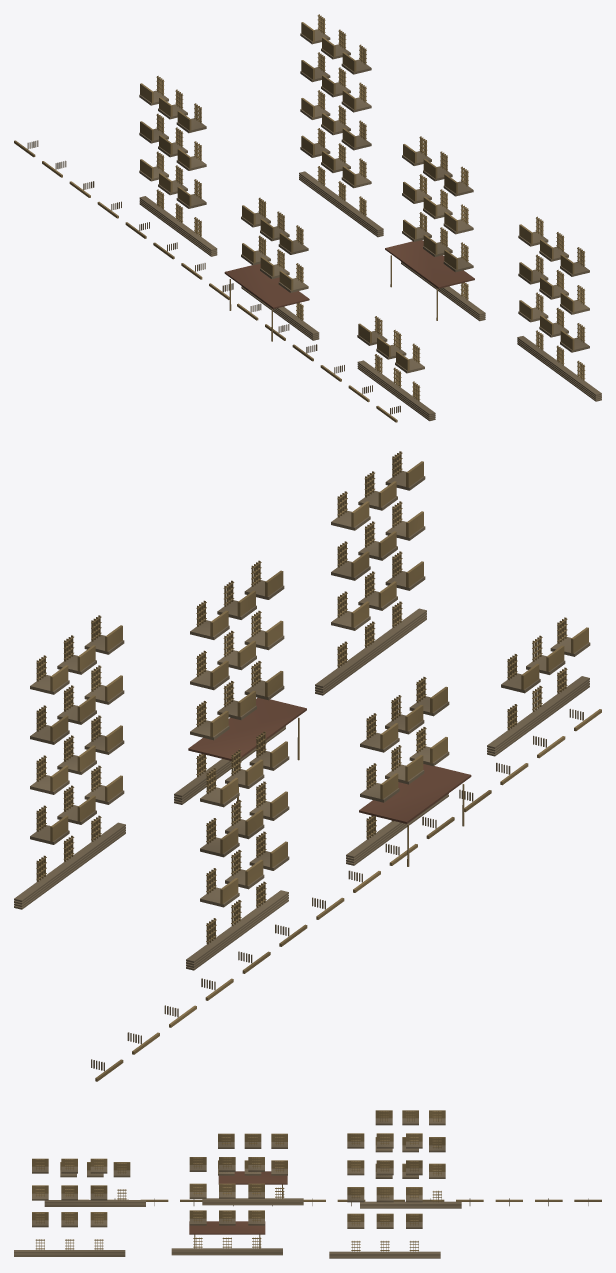
File: temple-detail.glb
3 views of the same model, one above another, from view 1: azimuth 30°, elevation 25°; view 2: azimuth 150°, elevation 25°; view 3: azimuth 270°, elevation 25° (orthographic). The views are drawn at different scales.
Parts seen in each view (by area): view 1: 54e-bronze, 54e-sand, 54e-cloth; view 2: 54e-bronze, 54e-sand, 54e-cloth; view 3: 54e-sand, 54e-bronze, 54e-cloth.
Boxes of the visible parts, <box> form: 54e-bronze: <box>14,14,585,422</box>; 54e-sand: <box>27,29,601,421</box>; 54e-cloth: <box>224,240,474,308</box>; 54e-bronze: <box>36,451,601,1081</box>; 54e-sand: <box>14,470,590,1071</box>; 54e-cloth: <box>188,698,471,823</box>; 54e-sand: <box>14,1118,588,1258</box>; 54e-bronze: <box>32,1110,601,1251</box>; 54e-cloth: <box>189,1171,287,1234</box>.
Bounding box in the file's own units: 15.7 × 14.32 × 59.65.
